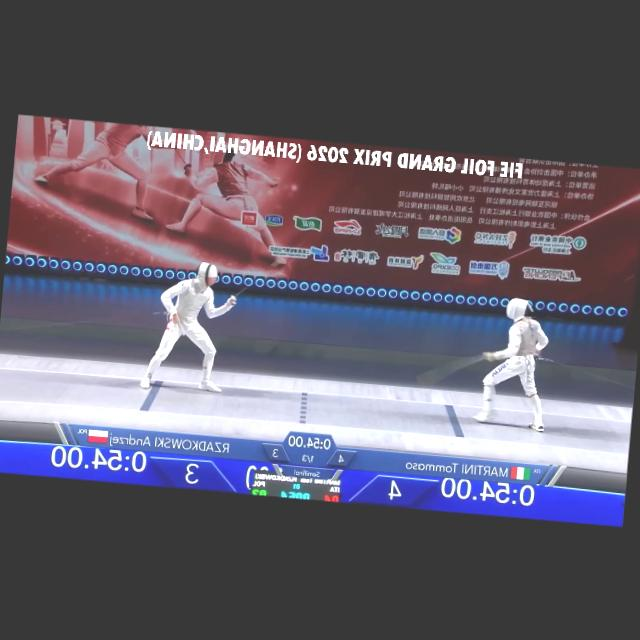blade: (404, 341, 494, 396), (224, 249, 285, 307)
